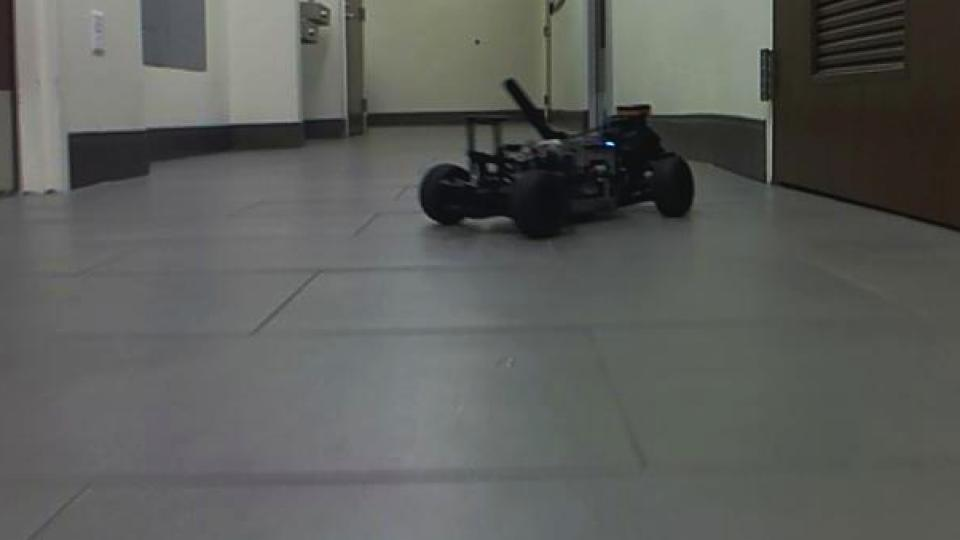car: (414, 75, 697, 241)
